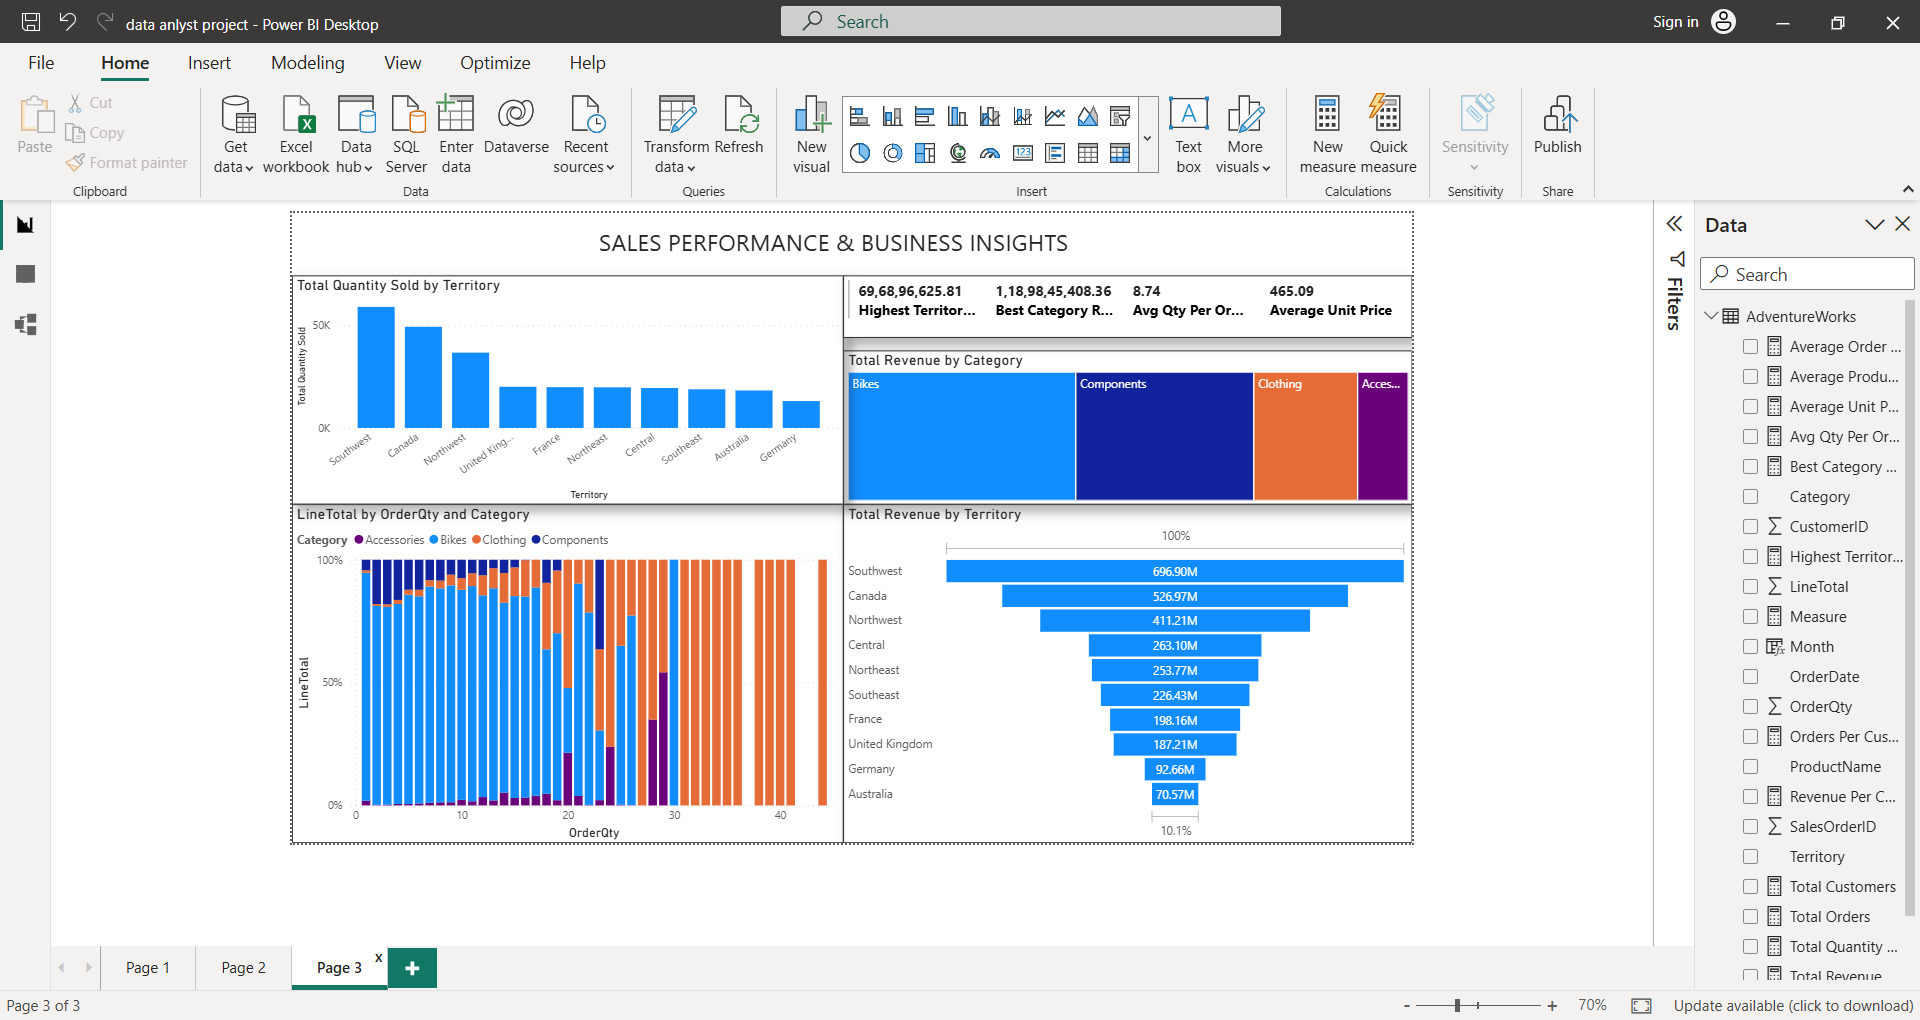

The dashboard page shown, as its layout file describes it:
{"tool":"powerbi","page":{"name":"Page 3","canvas":[1280,720],"ordinal":2},"visuals":[{"type":"hundredPercentStackedColumnChart","fields":{"Y":["Sum(AdventureWorks.LineTotal)"],"Category":["AdventureWorks.OrderQty"],"Series":["AdventureWorks.Category"]},"box":[0,332.9,630,387.1],"z":0},{"type":"funnel","fields":{"Category":["AdventureWorks.Territory"],"Y":["AdventureWorks.Total Revenue"]},"box":[630,332.9,650,387.1],"z":1000},{"type":"treemap","fields":{"Group":["AdventureWorks.Category"],"Values":["AdventureWorks.Total Revenue"]},"box":[630,157.1,650,175.7],"z":2000},{"type":"clusteredColumnChart","fields":{"Category":["AdventureWorks.Territory"],"Y":["AdventureWorks.Total Quantity Sold"]},"box":[0,71.4,630,261.4],"z":3000},{"type":"multiRowCard","fields":{"Values":["AdventureWorks.Highest Territory Revenue","AdventureWorks.Best Category Revenue","AdventureWorks.Avg Qty Per Order","AdventureWorks.Average Unit Price"]},"box":[630,71.4,650,71.4],"z":4000},{"type":"textbox","box":[102.9,10,1047.1,50],"z":5000}]}

Visuals, with their boxes on the page's 1280x720 design canvas (x1, y1, x2, y2). These are canvas units, not pixel positions in the 1920x1020 screenshot, which may show the page scaled, cropped or inside an application window:
hundredPercentStackedColumnChart - Sum(AdventureWorks.LineTotal) x AdventureWorks.OrderQty: {"x1": 0, "y1": 333, "x2": 630, "y2": 720}
funnel - AdventureWorks.Territory x AdventureWorks.Total Revenue: {"x1": 630, "y1": 333, "x2": 1280, "y2": 720}
treemap - AdventureWorks.Category x AdventureWorks.Total Revenue: {"x1": 630, "y1": 157, "x2": 1280, "y2": 333}
clusteredColumnChart - AdventureWorks.Territory x AdventureWorks.Total Quantity Sold: {"x1": 0, "y1": 71, "x2": 630, "y2": 333}
multiRowCard - AdventureWorks.Highest Territory Revenue x AdventureWorks.Best Category Revenue: {"x1": 630, "y1": 71, "x2": 1280, "y2": 143}
textbox: {"x1": 103, "y1": 10, "x2": 1150, "y2": 60}
